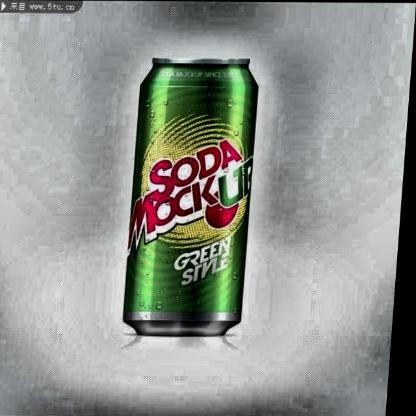Can: (116, 47, 270, 351)
